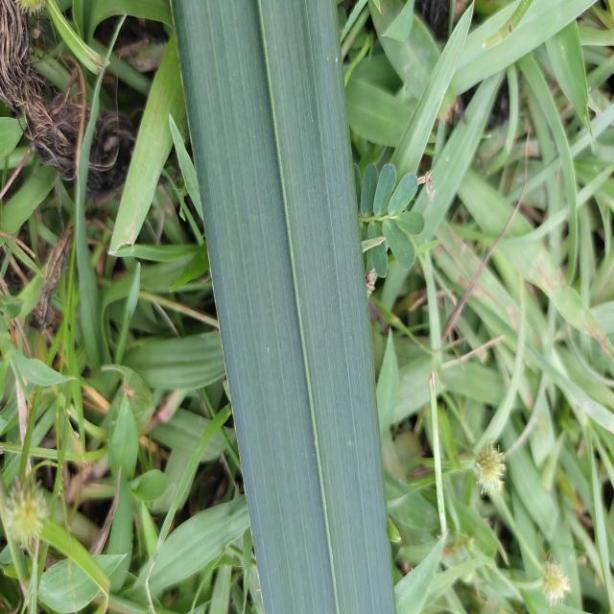Healthy: (172, 0, 396, 614)
